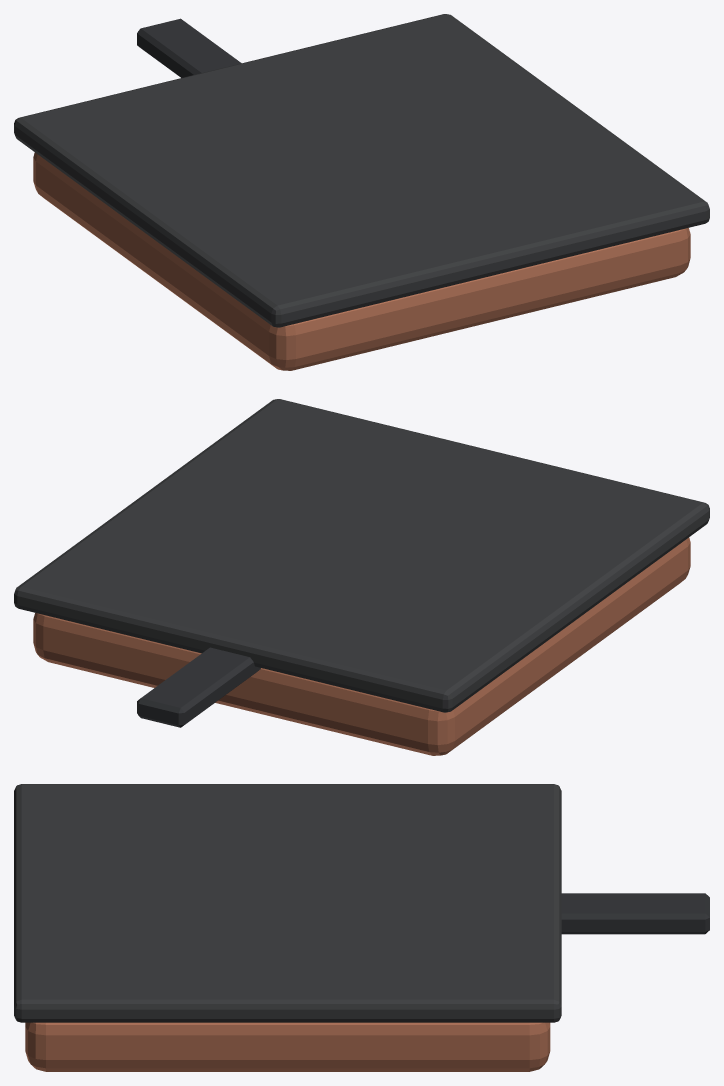
The model's file is swivel_office_chair_backrest.glb.
3 views of the same model, one above another, from view 1: azimuth 30°, elevation 25°; view 2: azimuth 150°, elevation 25°; view 3: azimuth 270°, elevation 25° (orthographic). The views are drawn at different scales.
Visible parts, largest first — view 1: export_tmp; view 2: export_tmp; view 3: export_tmp.
Part boxes in pixels (box(x1,y1,x2,y2)): export_tmp: box(14, 14, 709, 370); export_tmp: box(14, 399, 709, 755); export_tmp: box(14, 784, 709, 1071).
Size of the model in its own units: 0.46 by 0.078 by 0.61.
